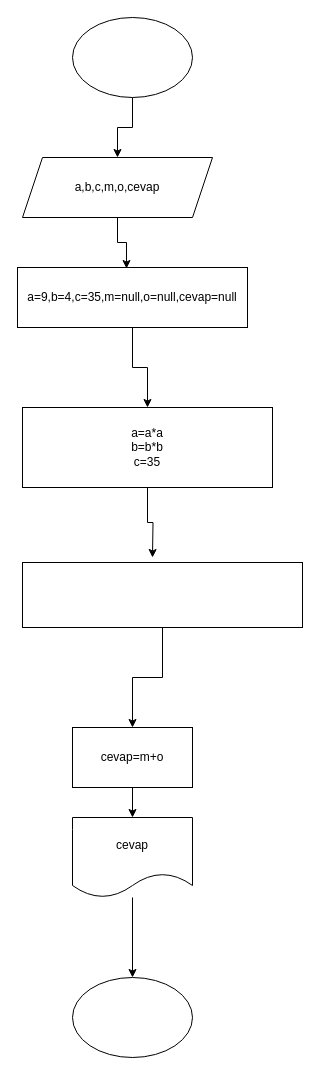
This 320x1075 diagram has some shape labels left out. Here are the shapes that lost their labels. From the top down, the centre of each, then its label:
[132,57]: BAŞLA
[162,595]: m=a*b*c o=a*b
[132,1017]: DUR
